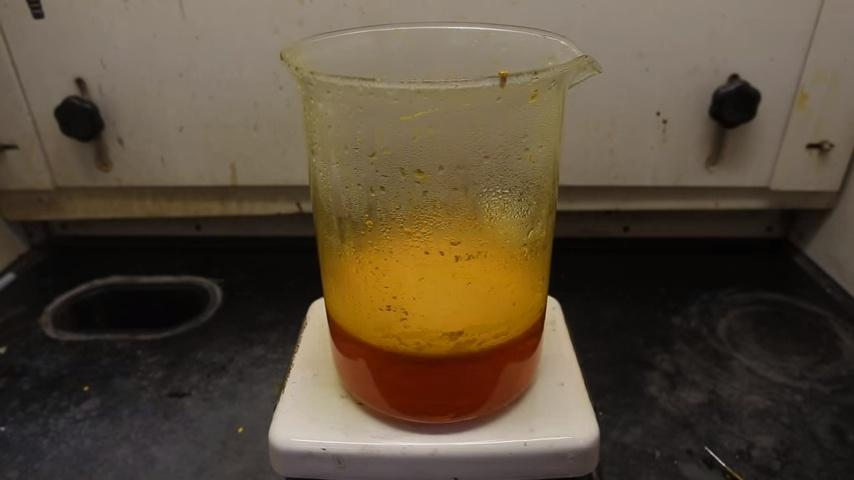Beaker: (276, 30, 601, 438)
